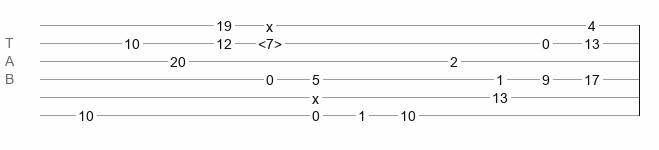0: (266, 72, 274, 82), (312, 108, 320, 118), (542, 36, 550, 46)
1: (358, 108, 366, 118), (496, 72, 504, 82)
10: (78, 108, 94, 118), (124, 36, 140, 46), (400, 108, 416, 118)
12: (216, 36, 232, 46)
13: (492, 90, 508, 100), (584, 36, 600, 46)
17: (584, 72, 600, 82)
19: (216, 18, 232, 28)
2: (450, 54, 458, 64)
20: (170, 54, 186, 64)
4: (588, 18, 596, 28)
5: (312, 72, 320, 82)
9: (542, 72, 550, 82)
harmonic: (258, 36, 282, 46)
x: (266, 19, 273, 27), (312, 91, 319, 99)
